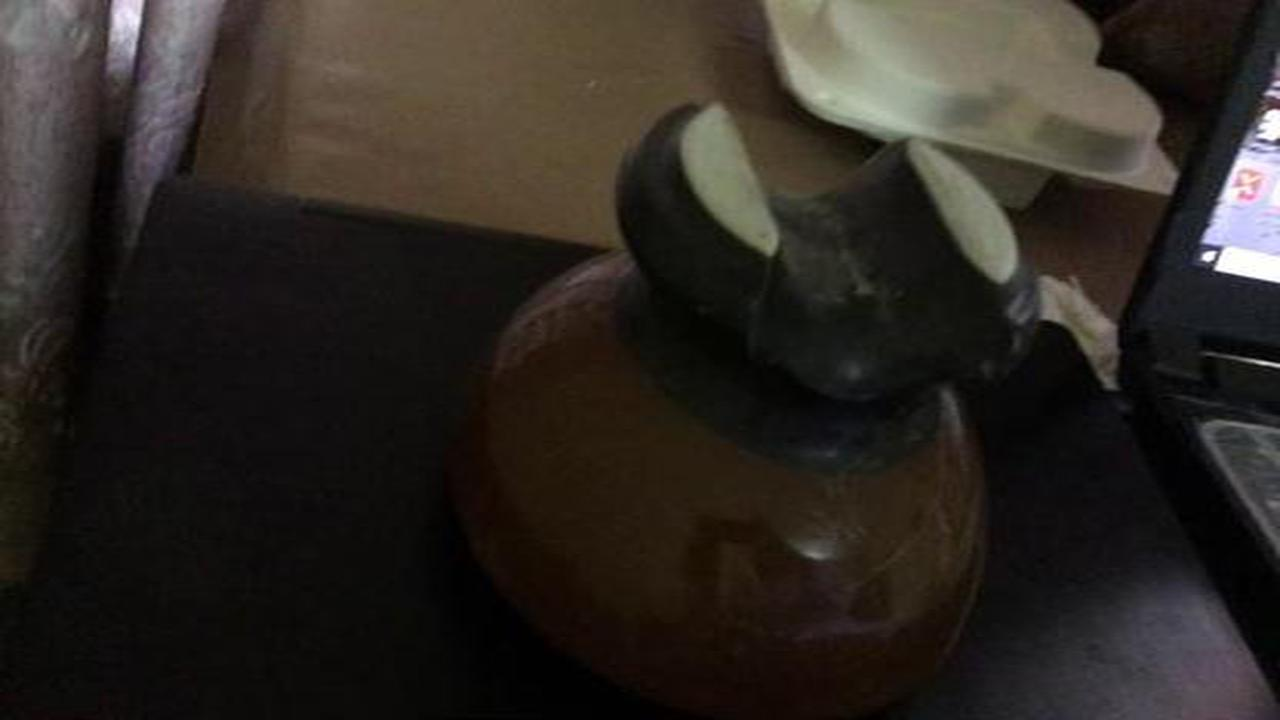insulator_pin: (416, 82, 1065, 701)
